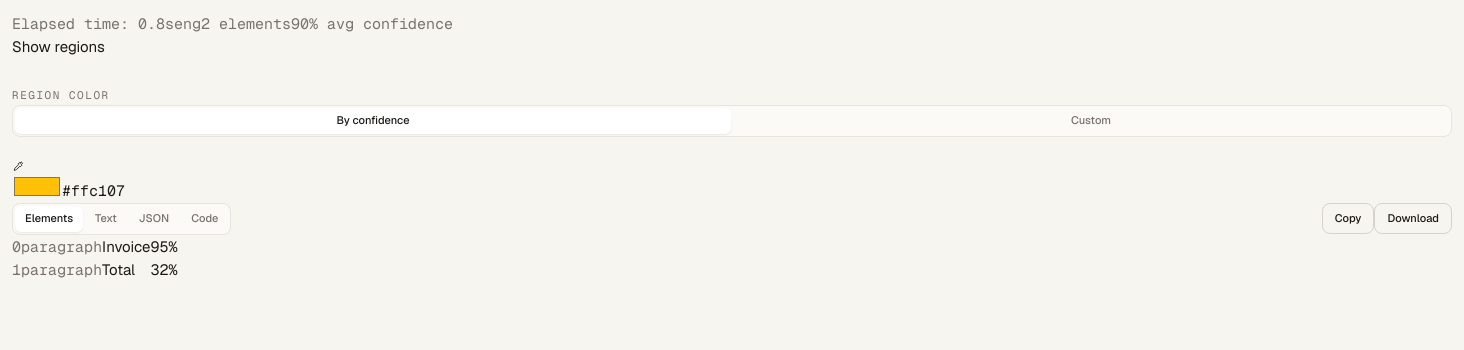
it: offers a Code segment in JSON mode and renders the snippet
Click the button "Code": coordinates (205, 218) [181,206,228,232]
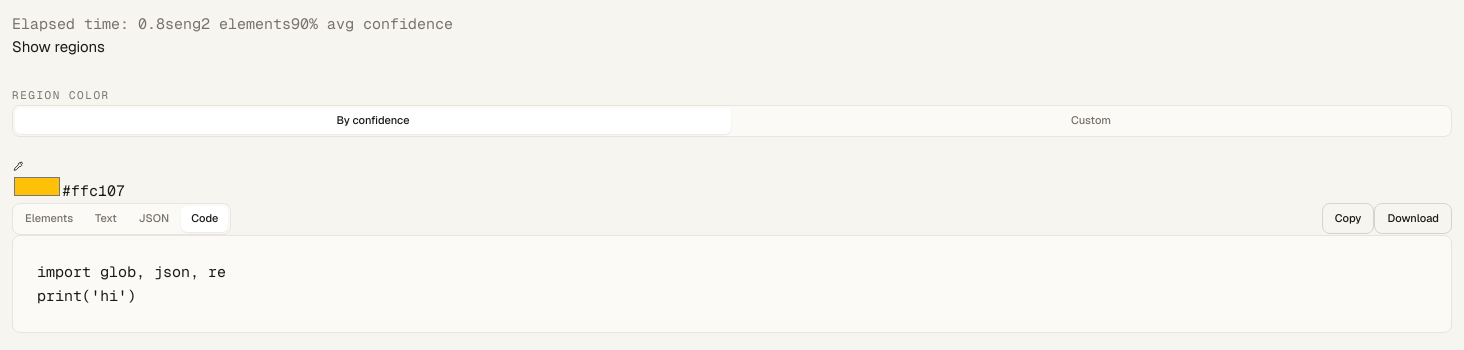
Now the text "import glob, json, re print('hi')" is shown, box [12,234,1452,332]
